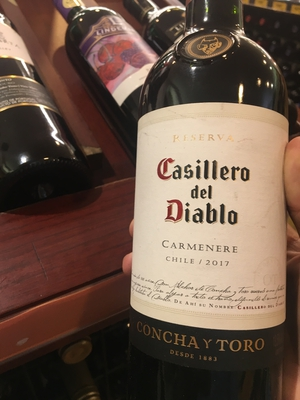casillero del diablo carmenere: (126, 14, 298, 400)
